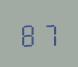eight: (19, 20, 38, 47)
seven: (39, 19, 58, 46)
